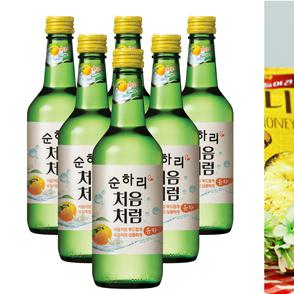soju: (25, 13, 236, 290)
